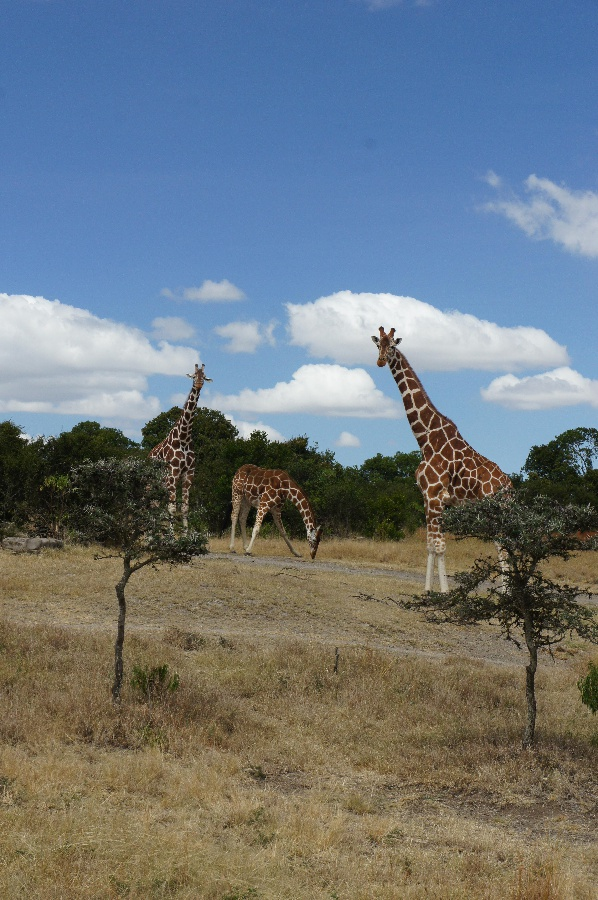giraffe: (368, 321, 543, 608), (125, 354, 213, 551), (220, 448, 335, 571)
